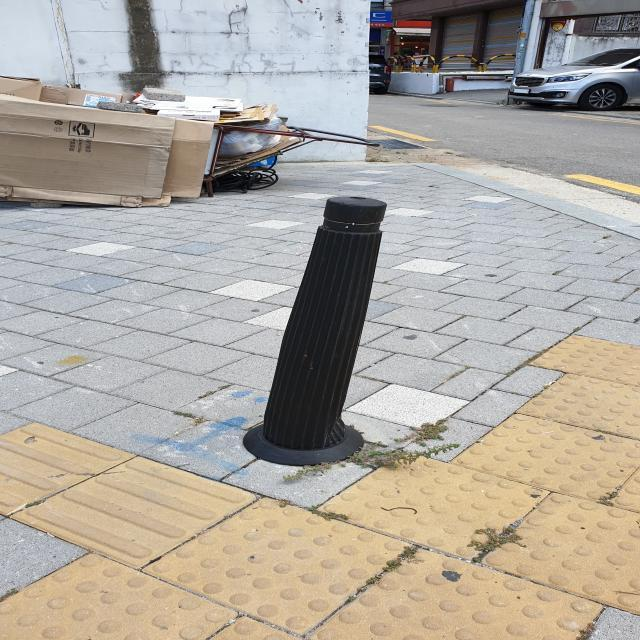pole: (242, 195, 386, 466)
